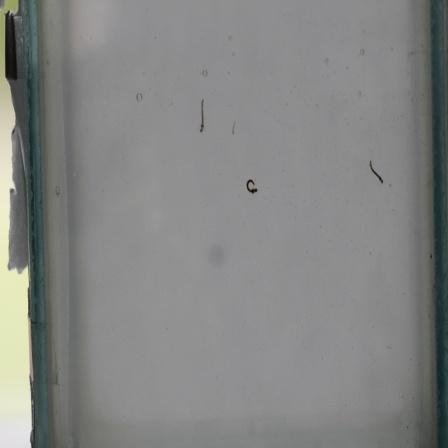Jentik-Nyamuk: (368, 157, 386, 187), (242, 175, 262, 201), (196, 95, 208, 134)
